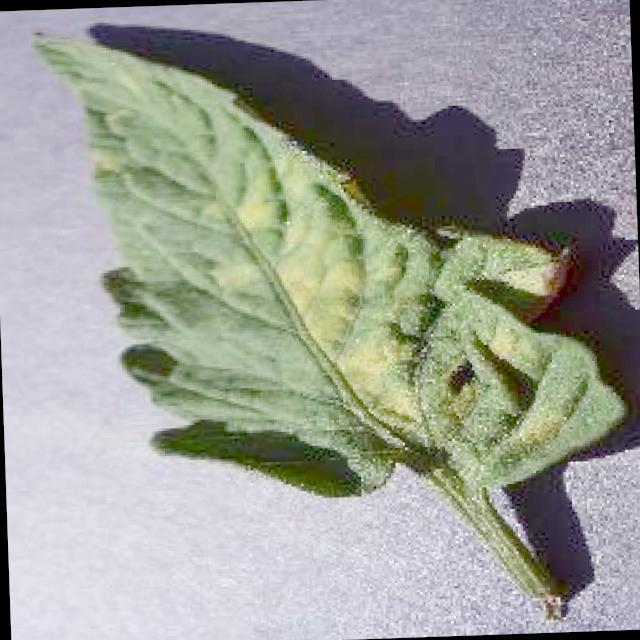Tomato mold leaf: (30, 14, 629, 508)
